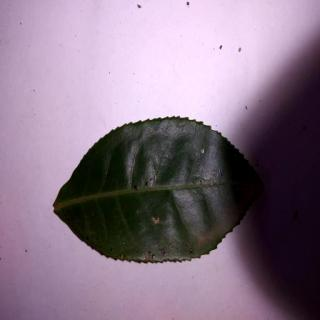Bird Eye Spot: (57, 117, 266, 264)
